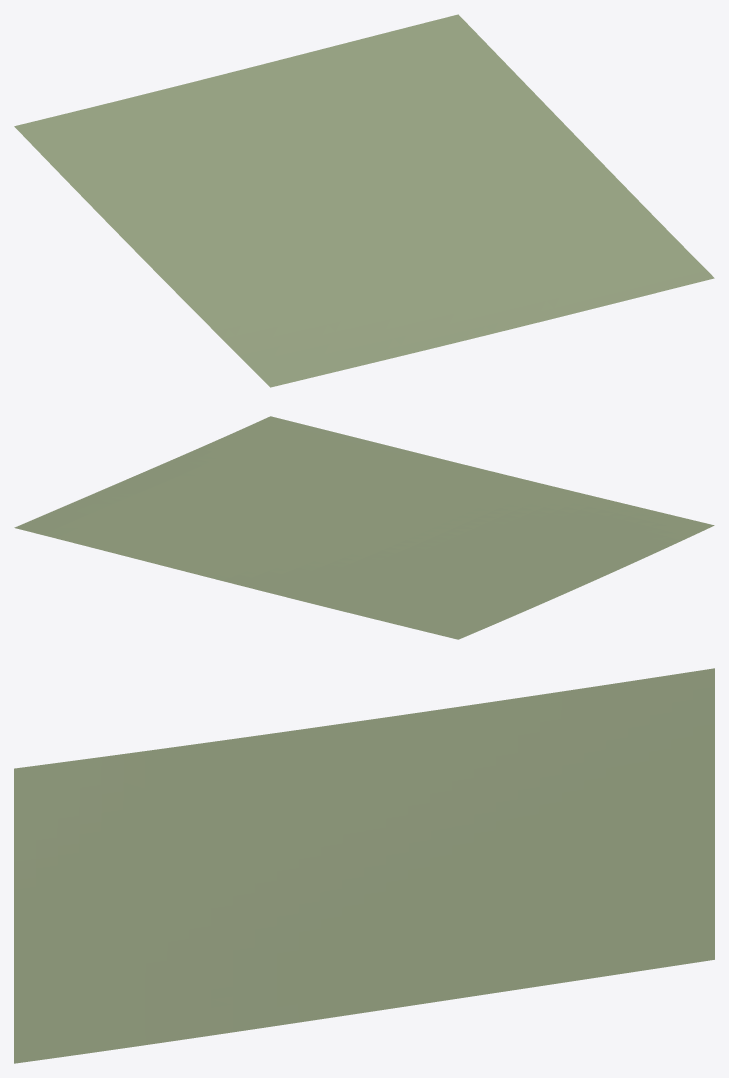
Rendered from desert-30-11.glb.
The picture shows the model from 3 angles, top to bottom: view 1: azimuth 30°, elevation 25°; view 2: azimuth 150°, elevation 25°; view 3: azimuth 270°, elevation 25°; orthographic projection. The views are drawn at different scales.
Parts seen in each view (by area): view 1: desert-30-11; view 2: desert-30-11; view 3: desert-30-11.
Boxes of the visible parts, x1=… form: desert-30-11: x1=14, y1=14, x2=714, y2=387; desert-30-11: x1=14, y1=416, x2=714, y2=639; desert-30-11: x1=14, y1=668, x2=714, y2=1063.
Bounding box in the file's own units: 512 × 85.21 × 512.
